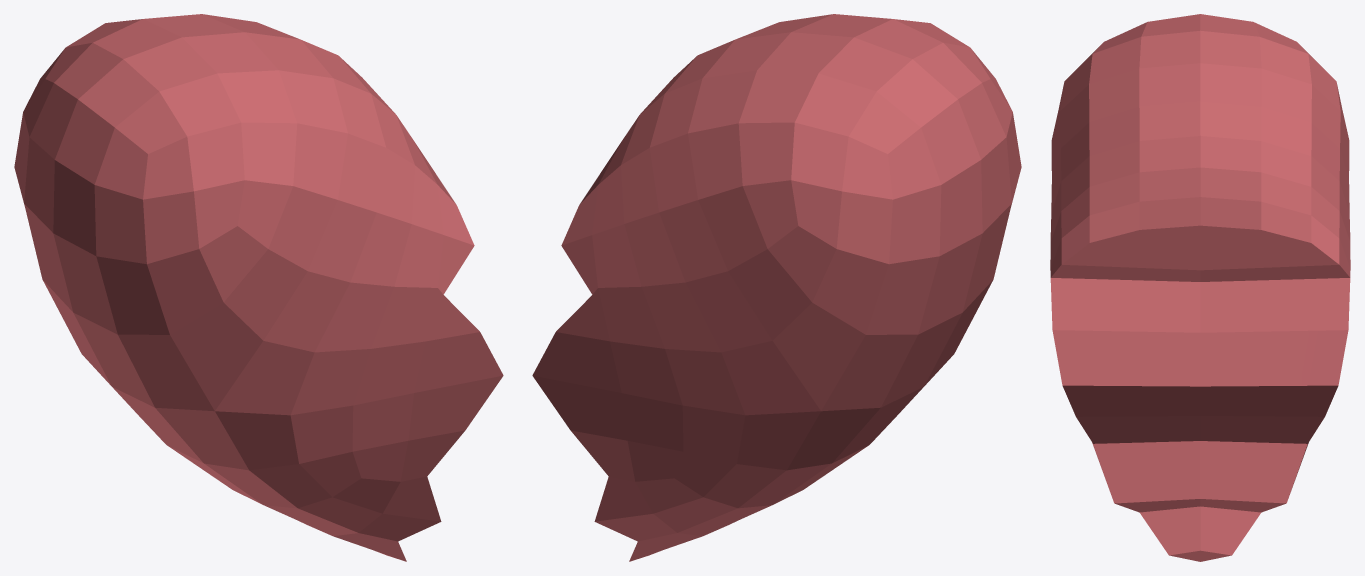
File: SM_Heart_Half.fbx
3 renders of one model, left to right at view 1: azimuth 30°, elevation 25°; view 2: azimuth 150°, elevation 25°; view 3: azimuth 270°, elevation 25°, orthographic. The views are drawn at different scales.
Parts seen in each view (by area): view 1: SM_Heart_Half; view 2: SM_Heart_Half; view 3: SM_Heart_Half.
Boxes of the visible parts, x1=… form: SM_Heart_Half: x1=14, y1=14, x2=503, y2=561; SM_Heart_Half: x1=532, y1=14, x2=1021, y2=561; SM_Heart_Half: x1=1050, y1=14, x2=1350, y2=561.
Size of the model in its own units: 43.65 by 65.22 by 39.27.
